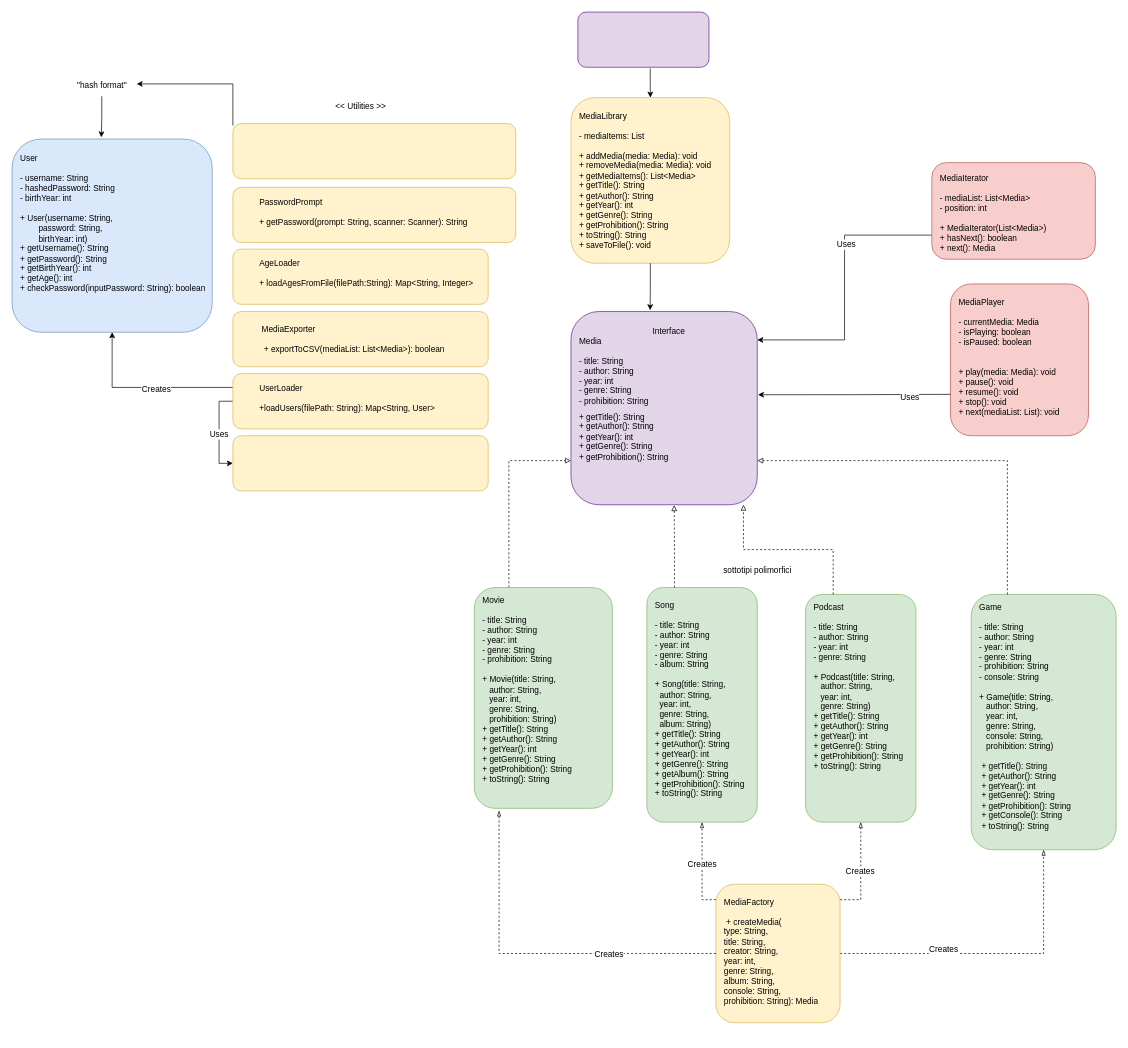
Image size: 1128x1048. Some labels were removed from this diagram. The shapes that lost their labels are listed below. From the top down, each one's centre as x and y in pixels, then its label:
At (643,39): "App + Main(String [] args): void".
At (374,151): "PasswordHasher + hashPassword(password:String): String".
At (360,463): "AgeLoader +loadAgesFromFile(filePath: String): Map<String, Integer>".
